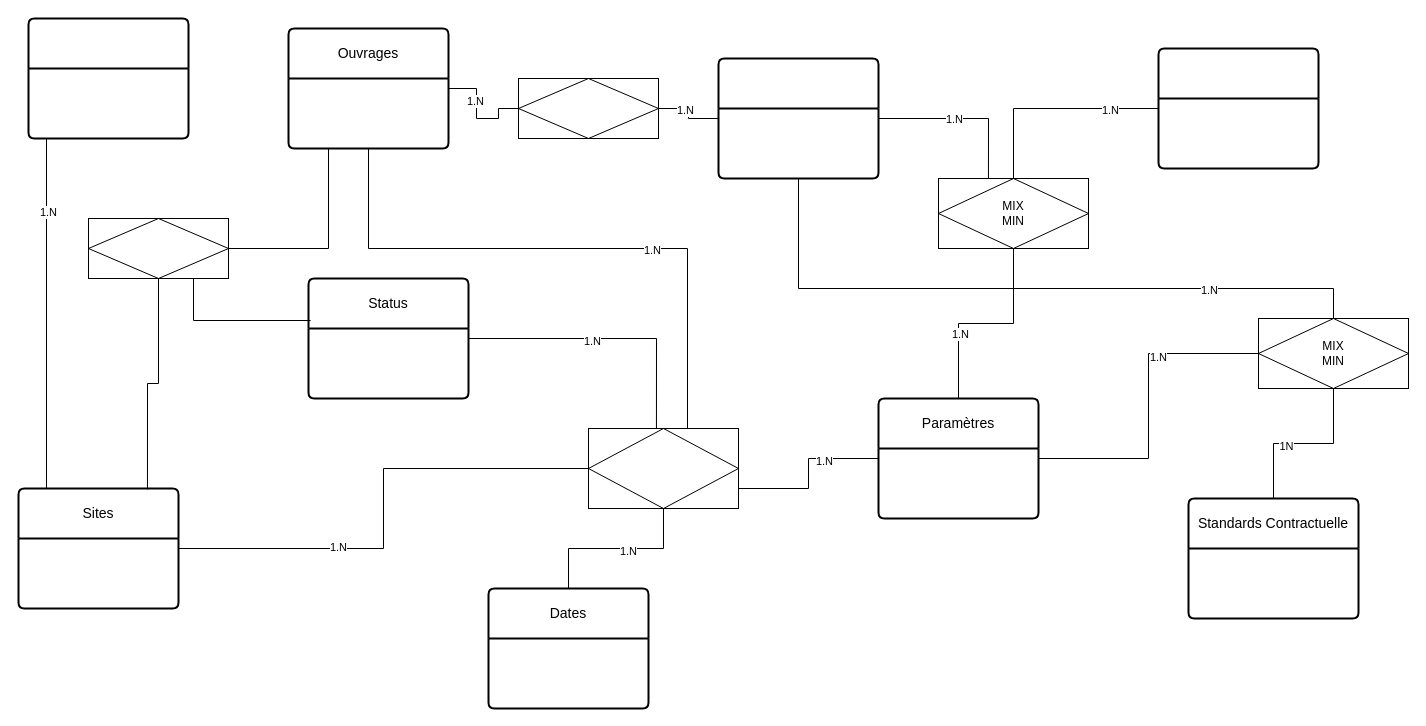
The diagram is 1426 pixels wide and 726 high, and some of its shapes have lost their labels. The centre of each missing label's shape, as x and y in pixels:
"Effluents" belongs at (798,118).
"Régions" belongs at (108,78).
"Standards ISO" belongs at (1238,108).
"Valeur" belongs at (663,468).
